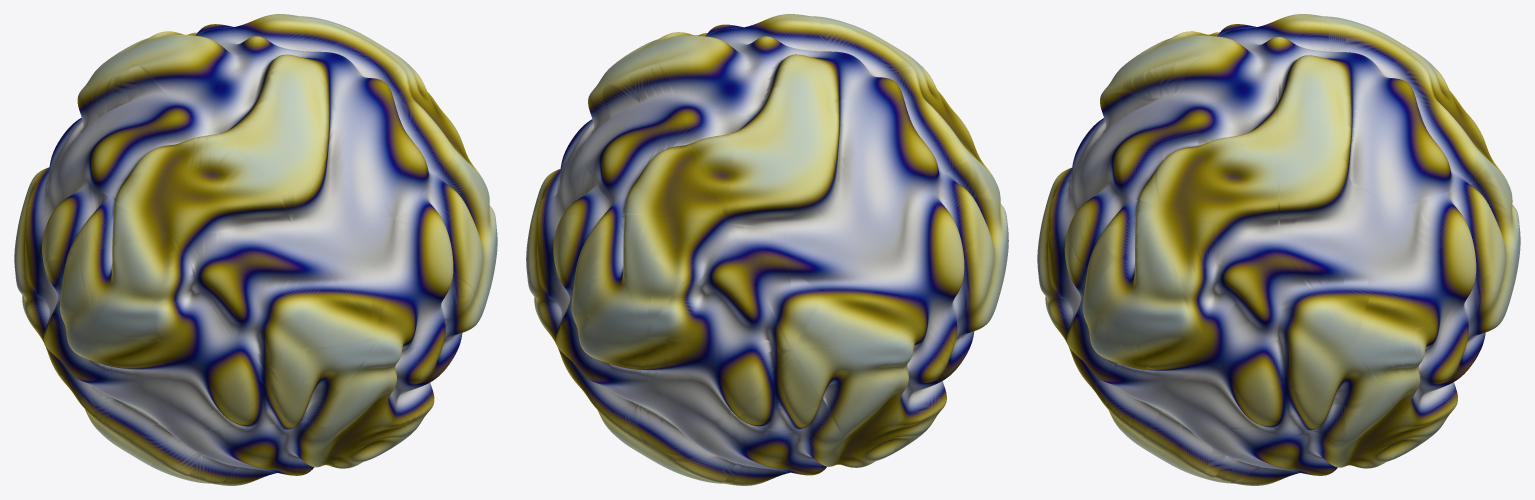
File: blob-transformed.glb
3 views of the same model, side by side, from view 1: azimuth 30°, elevation 25°; view 2: azimuth 150°, elevation 25°; view 3: azimuth 270°, elevation 25° (orthographic).
Parts seen in each view (by area): view 1: Object_2; view 2: Object_2; view 3: Object_2.
Boxes of the visible parts, x1,y1,x2,y2 form: Object_2: (14,14,497,485); Object_2: (526,14,1008,485); Object_2: (1037,14,1520,485).
Bounding box in the file's own units: 4.56 × 4.5 × 4.64.
